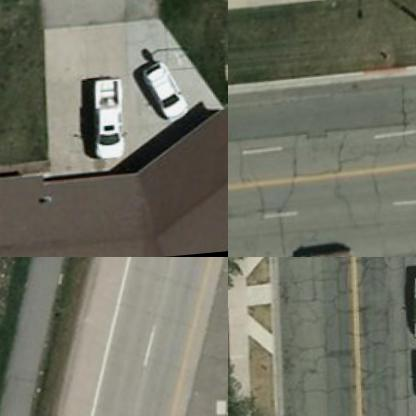car: (136, 53, 194, 125), (404, 269, 415, 341), (297, 247, 359, 256)
pickup: (96, 71, 130, 154)
